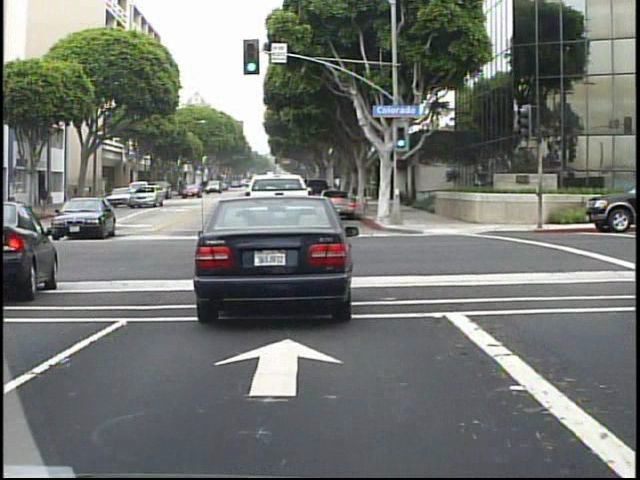person: (39, 185, 52, 208)
